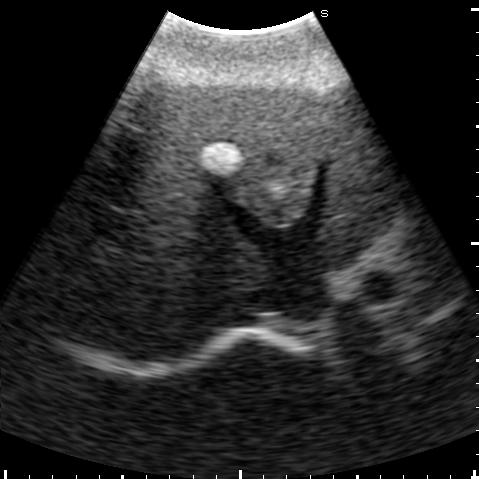S2: (315, 97, 388, 261)
S4: (132, 81, 325, 225)
S7: (64, 248, 211, 362)
S8: (110, 155, 264, 291)
Tumor: (197, 142, 241, 175)
